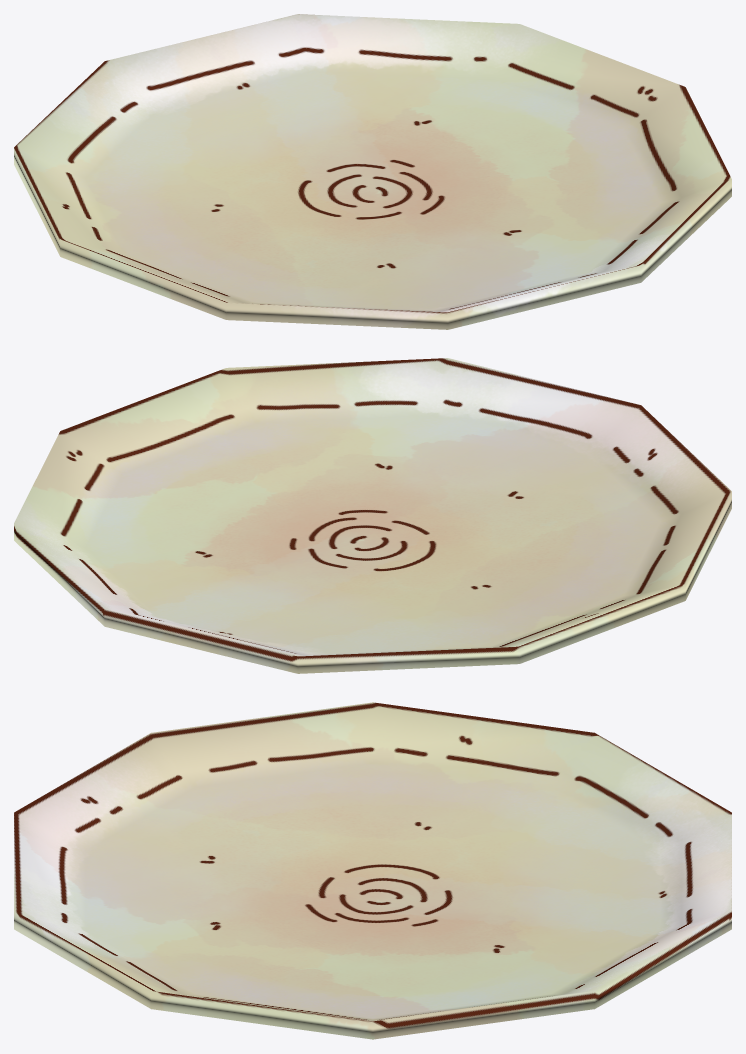
File: plate.fbx
3 views of the same model, one above another, from view 1: azimuth 30°, elevation 25°; view 2: azimuth 150°, elevation 25°; view 3: azimuth 270°, elevation 25° (orthographic). The views are drawn at different scales.
Visible parts, largest first — view 1: plate; view 2: plate; view 3: plate.
Boxes of the visible parts, x1,y1,x2,y2 form: plate: [14, 14, 731, 329]; plate: [14, 358, 731, 673]; plate: [14, 702, 731, 1039].
Bounding box in the file's own units: 23.49 × 2.93 × 22.34.
